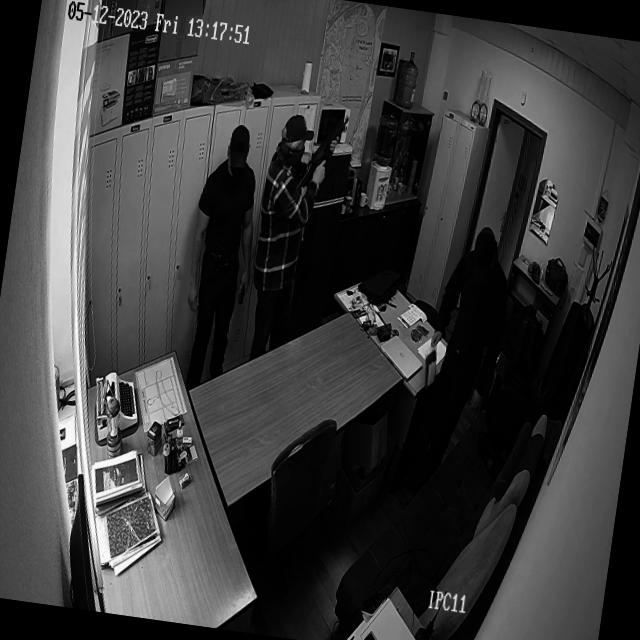gun: (296, 110, 350, 199)
person: (392, 217, 519, 500), (172, 118, 274, 400)
person with a gun: (240, 104, 350, 370)
